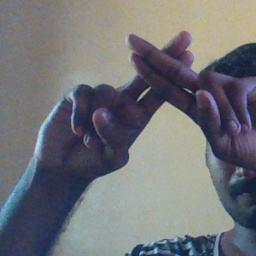F: (91, 23, 235, 142)
